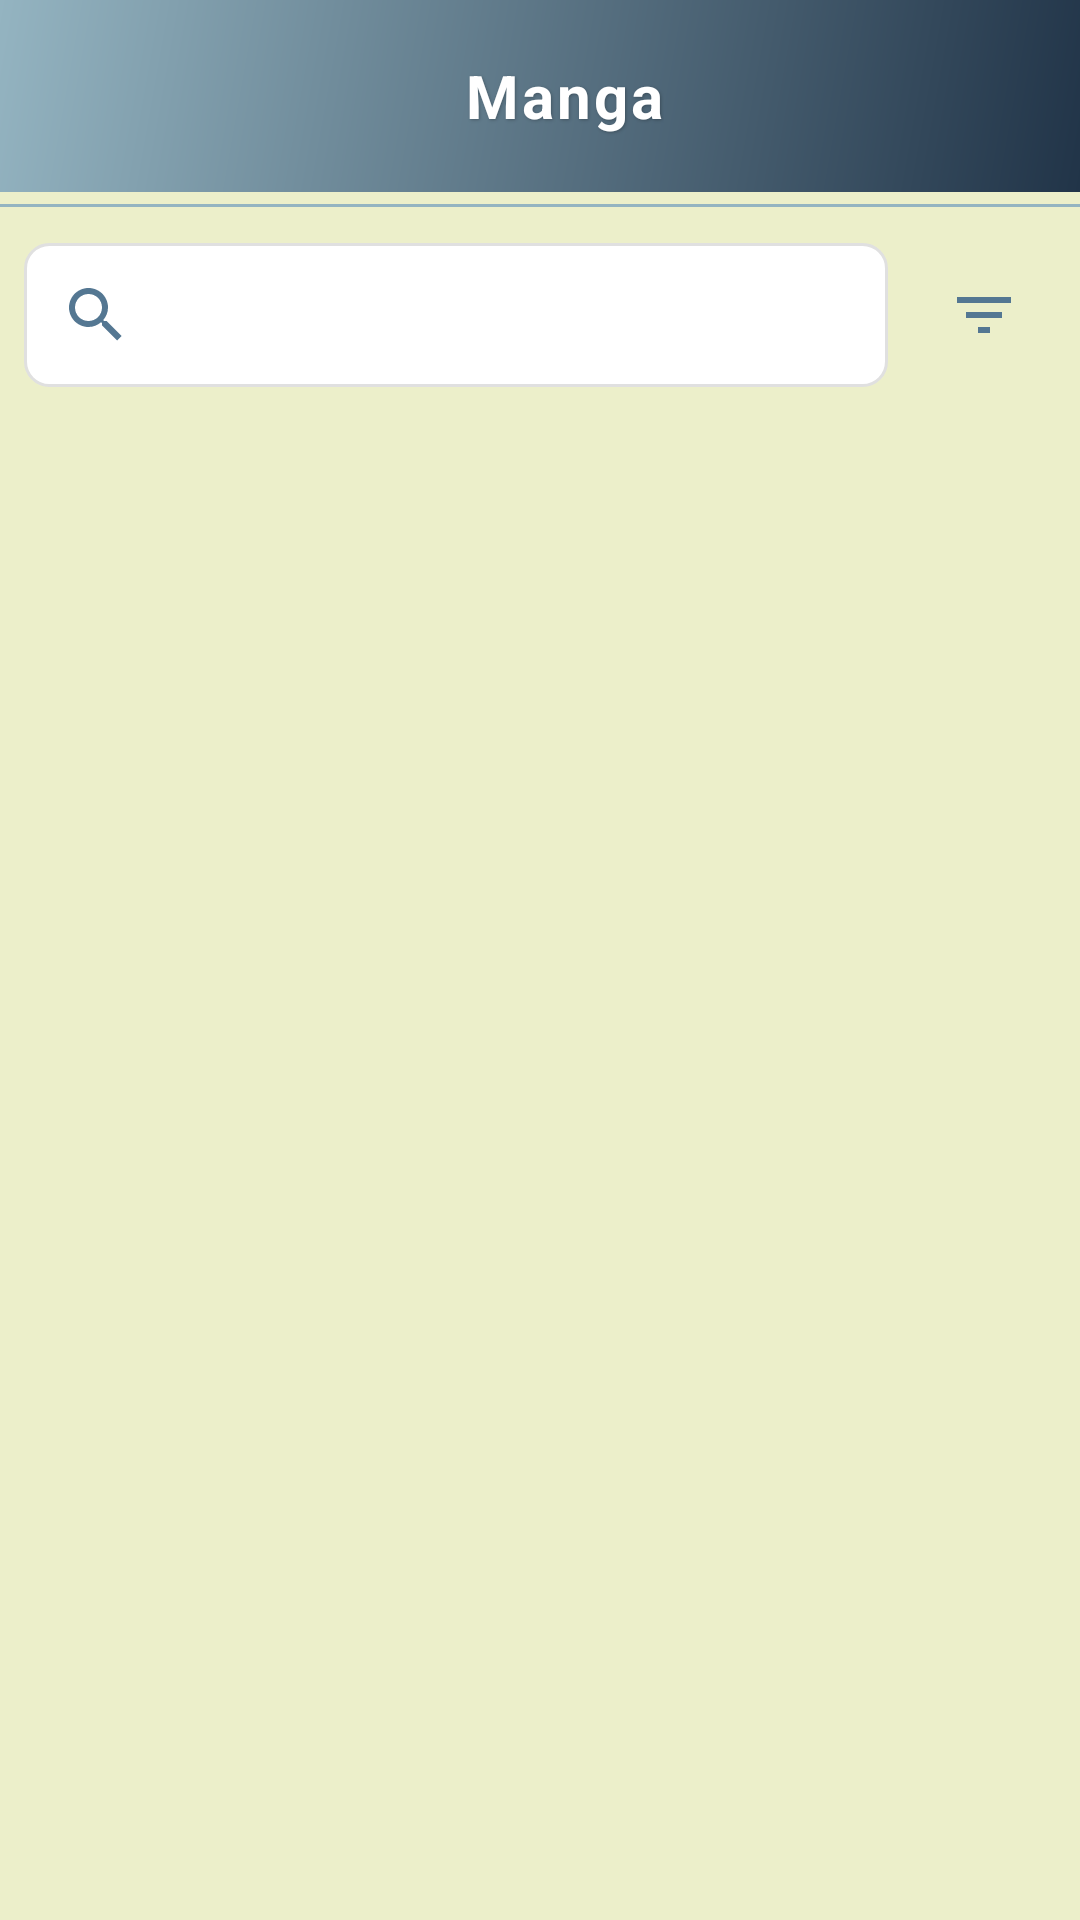

Screen size 1080 x 1920. Icon name, then its box in pixels as {"x1": x1, "y1": y1, "x2": x2, "y2": y2}:
Filter Manga: {"x1": 957, "y1": 297, "x2": 1011, "y2": 333}
